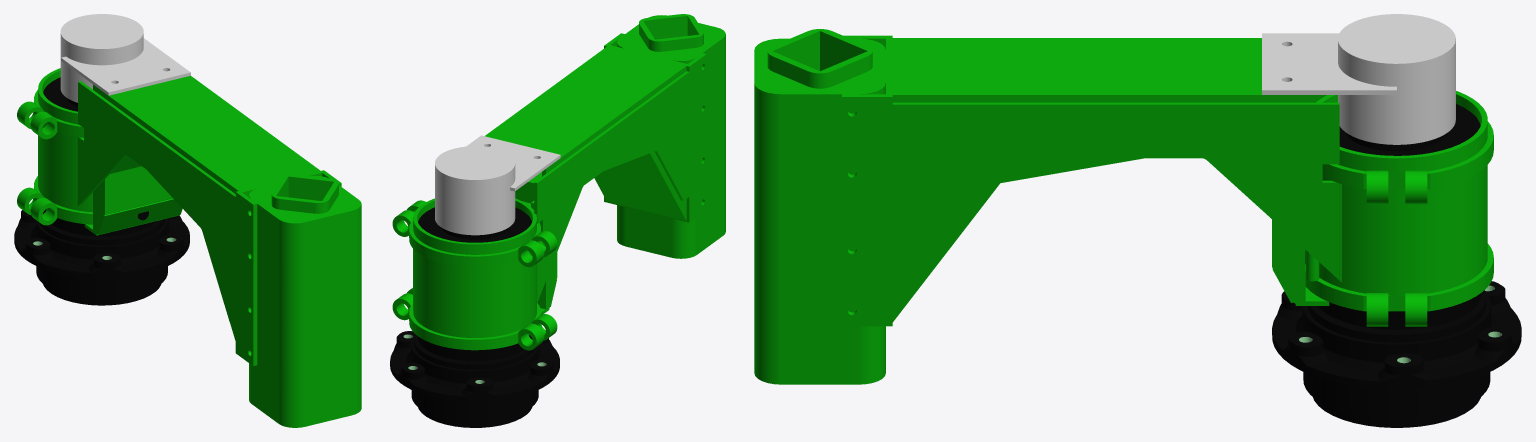
File: Leg.fbx
3 renders of one model, left to right at view 1: azimuth 30°, elevation 25°; view 2: azimuth 150°, elevation 25°; view 3: azimuth 270°, elevation 25°, orthographic. The views are drawn at different scales.
Visible parts, largest first — view 1: Leg; view 2: Leg; view 3: Leg.
Boxes of the visible parts, bbox=[...] form: Leg: bbox=[14, 14, 361, 427]; Leg: bbox=[390, 14, 725, 427]; Leg: bbox=[754, 14, 1521, 427].
Size of the model in its own units: 14.8 by 23.1 by 45.5.
